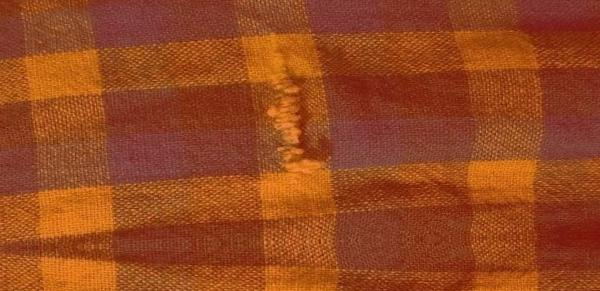knot: (266, 50, 330, 175)
